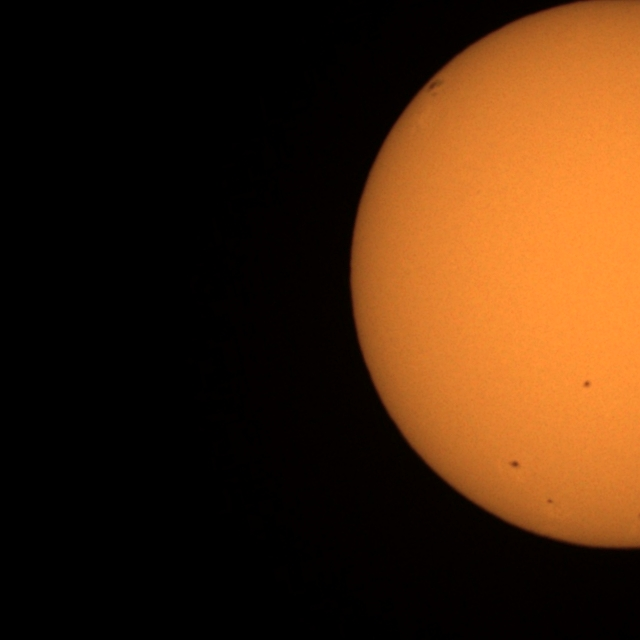sunspot: (424, 77, 446, 98), (508, 459, 522, 470), (581, 379, 592, 390), (546, 498, 554, 505)
